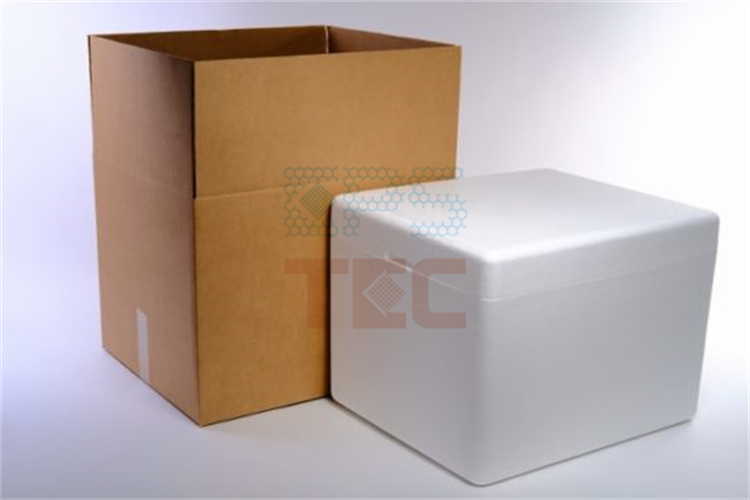泡沫箱: (330, 170, 718, 484)
